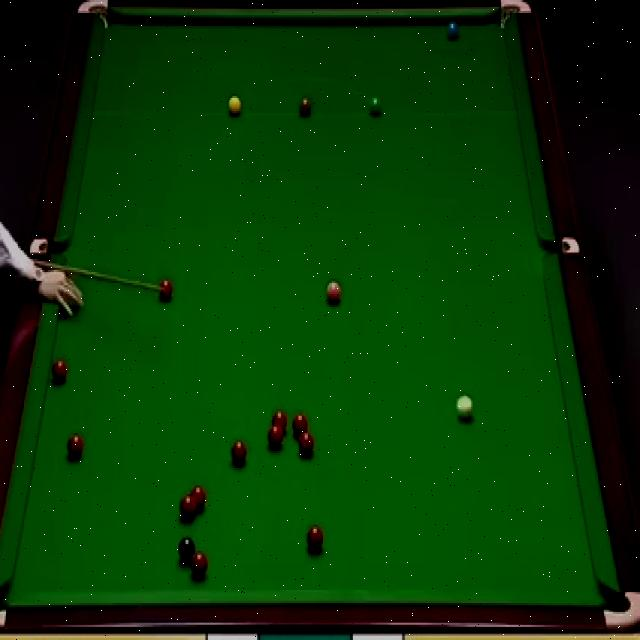black-ball: (177, 538, 195, 562)
blue-ball: (447, 20, 460, 44)
brown-ball: (298, 96, 312, 116)
green-ball: (368, 96, 382, 116)
pink-ball: (326, 283, 342, 307)
red-ball: (298, 429, 316, 460), (180, 496, 199, 523), (51, 360, 68, 388), (230, 437, 247, 464), (68, 432, 85, 459), (306, 524, 323, 551), (190, 550, 207, 576), (190, 486, 207, 510), (269, 426, 285, 449), (271, 410, 287, 432), (293, 413, 308, 436), (158, 281, 173, 300)
white-ball: (458, 394, 473, 422)
yellow-ball: (227, 96, 242, 116)
